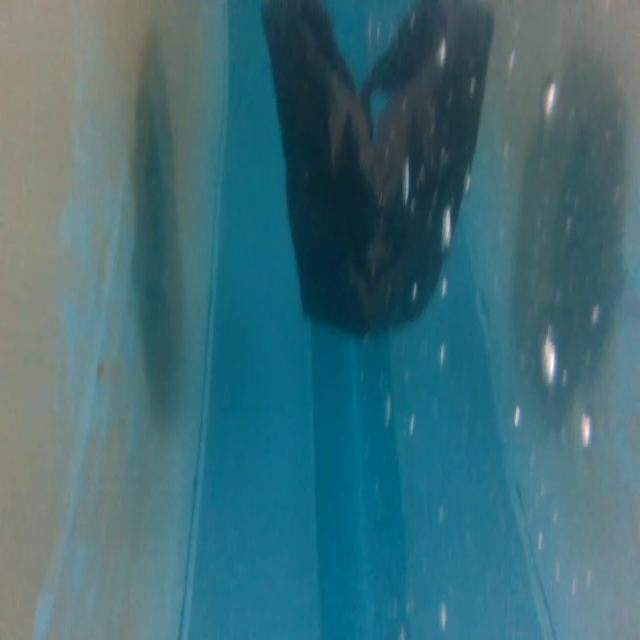plastic bags: (257, 0, 499, 349)
